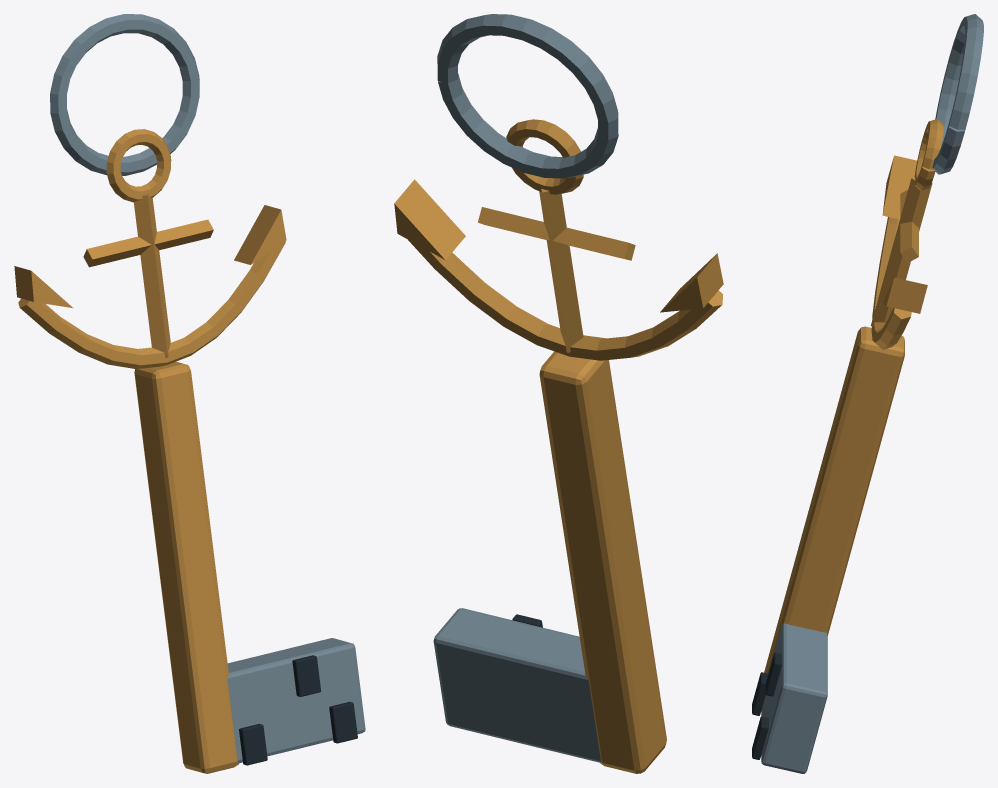
3 renders of one model, left to right at view 1: azimuth 30°, elevation 25°; view 2: azimuth 150°, elevation 25°; view 3: azimuth 270°, elevation 25°, orthographic. The views are drawn at different scales.
Parts seen in each view (by area): view 1: C3-04_brass, C3-04_steel, C3-04_ink; view 2: C3-04_brass, C3-04_steel; view 3: C3-04_brass, C3-04_steel, C3-04_ink.
Part boxes in pixels (box(x1,y1,x2,y2)): C3-04_brass: box(14, 129, 286, 773); C3-04_steel: box(50, 14, 365, 763); C3-04_ink: box(239, 655, 357, 765); C3-04_brass: box(394, 119, 723, 773); C3-04_steel: box(433, 14, 618, 762); C3-04_brass: box(764, 119, 943, 673); C3-04_steel: box(761, 14, 983, 773); C3-04_ink: box(752, 652, 781, 759).
Size of the model in its own units: 0.2305 by 0.5438 by 0.1667.
